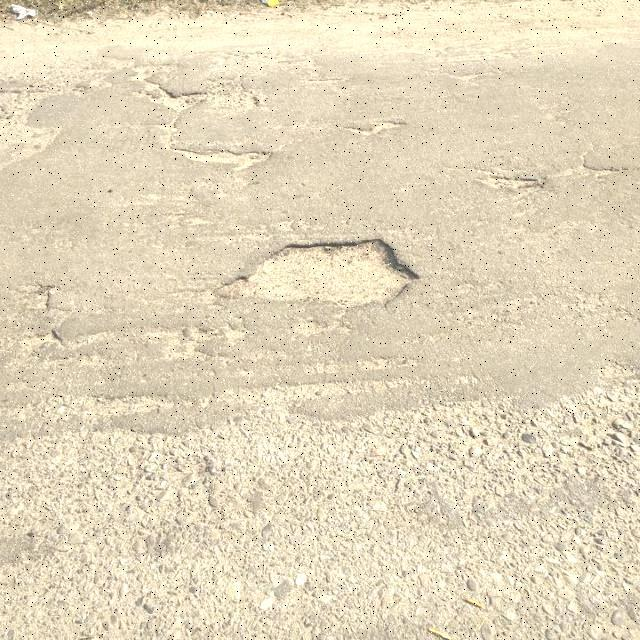Pothole: (213, 239, 421, 308)
